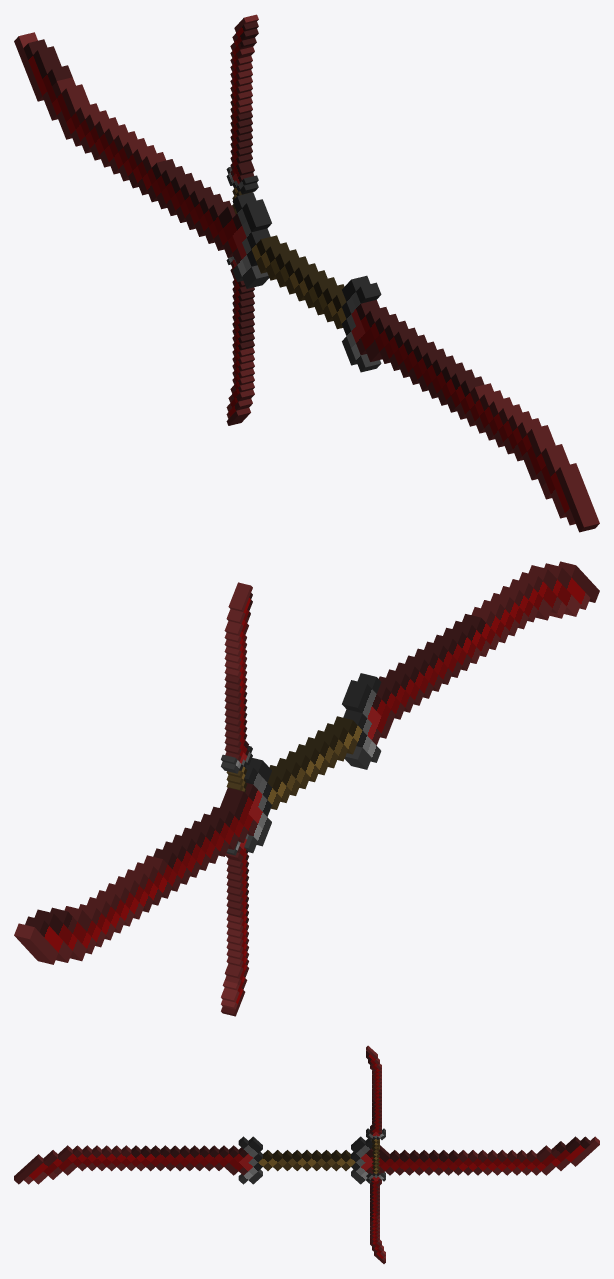
The model's file is poleblade.glb.
The picture shows the model from 3 angles, top to bottom: view 1: azimuth 30°, elevation 25°; view 2: azimuth 150°, elevation 25°; view 3: azimuth 270°, elevation 25°; orthographic projection. The views are drawn at different scales.
Visible parts, largest first — view 1: main__Tool_R, off__Tool_L; view 2: main__Tool_R, off__Tool_L; view 3: main__Tool_R, off__Tool_L.
Boxes of the visible parts, <box> form: main__Tool_R: <box>14,32,599,532</box>; off__Tool_L: <box>226,14,258,425</box>; main__Tool_R: <box>14,561,599,964</box>; off__Tool_L: <box>221,582,252,1016</box>; main__Tool_R: <box>14,1136,599,1184</box>; off__Tool_L: <box>366,1045,385,1263</box>.
Bounding box in the file's own units: 0.075 × 1.72 × 4.24.
Materials: 1 (1 with a texture image).
